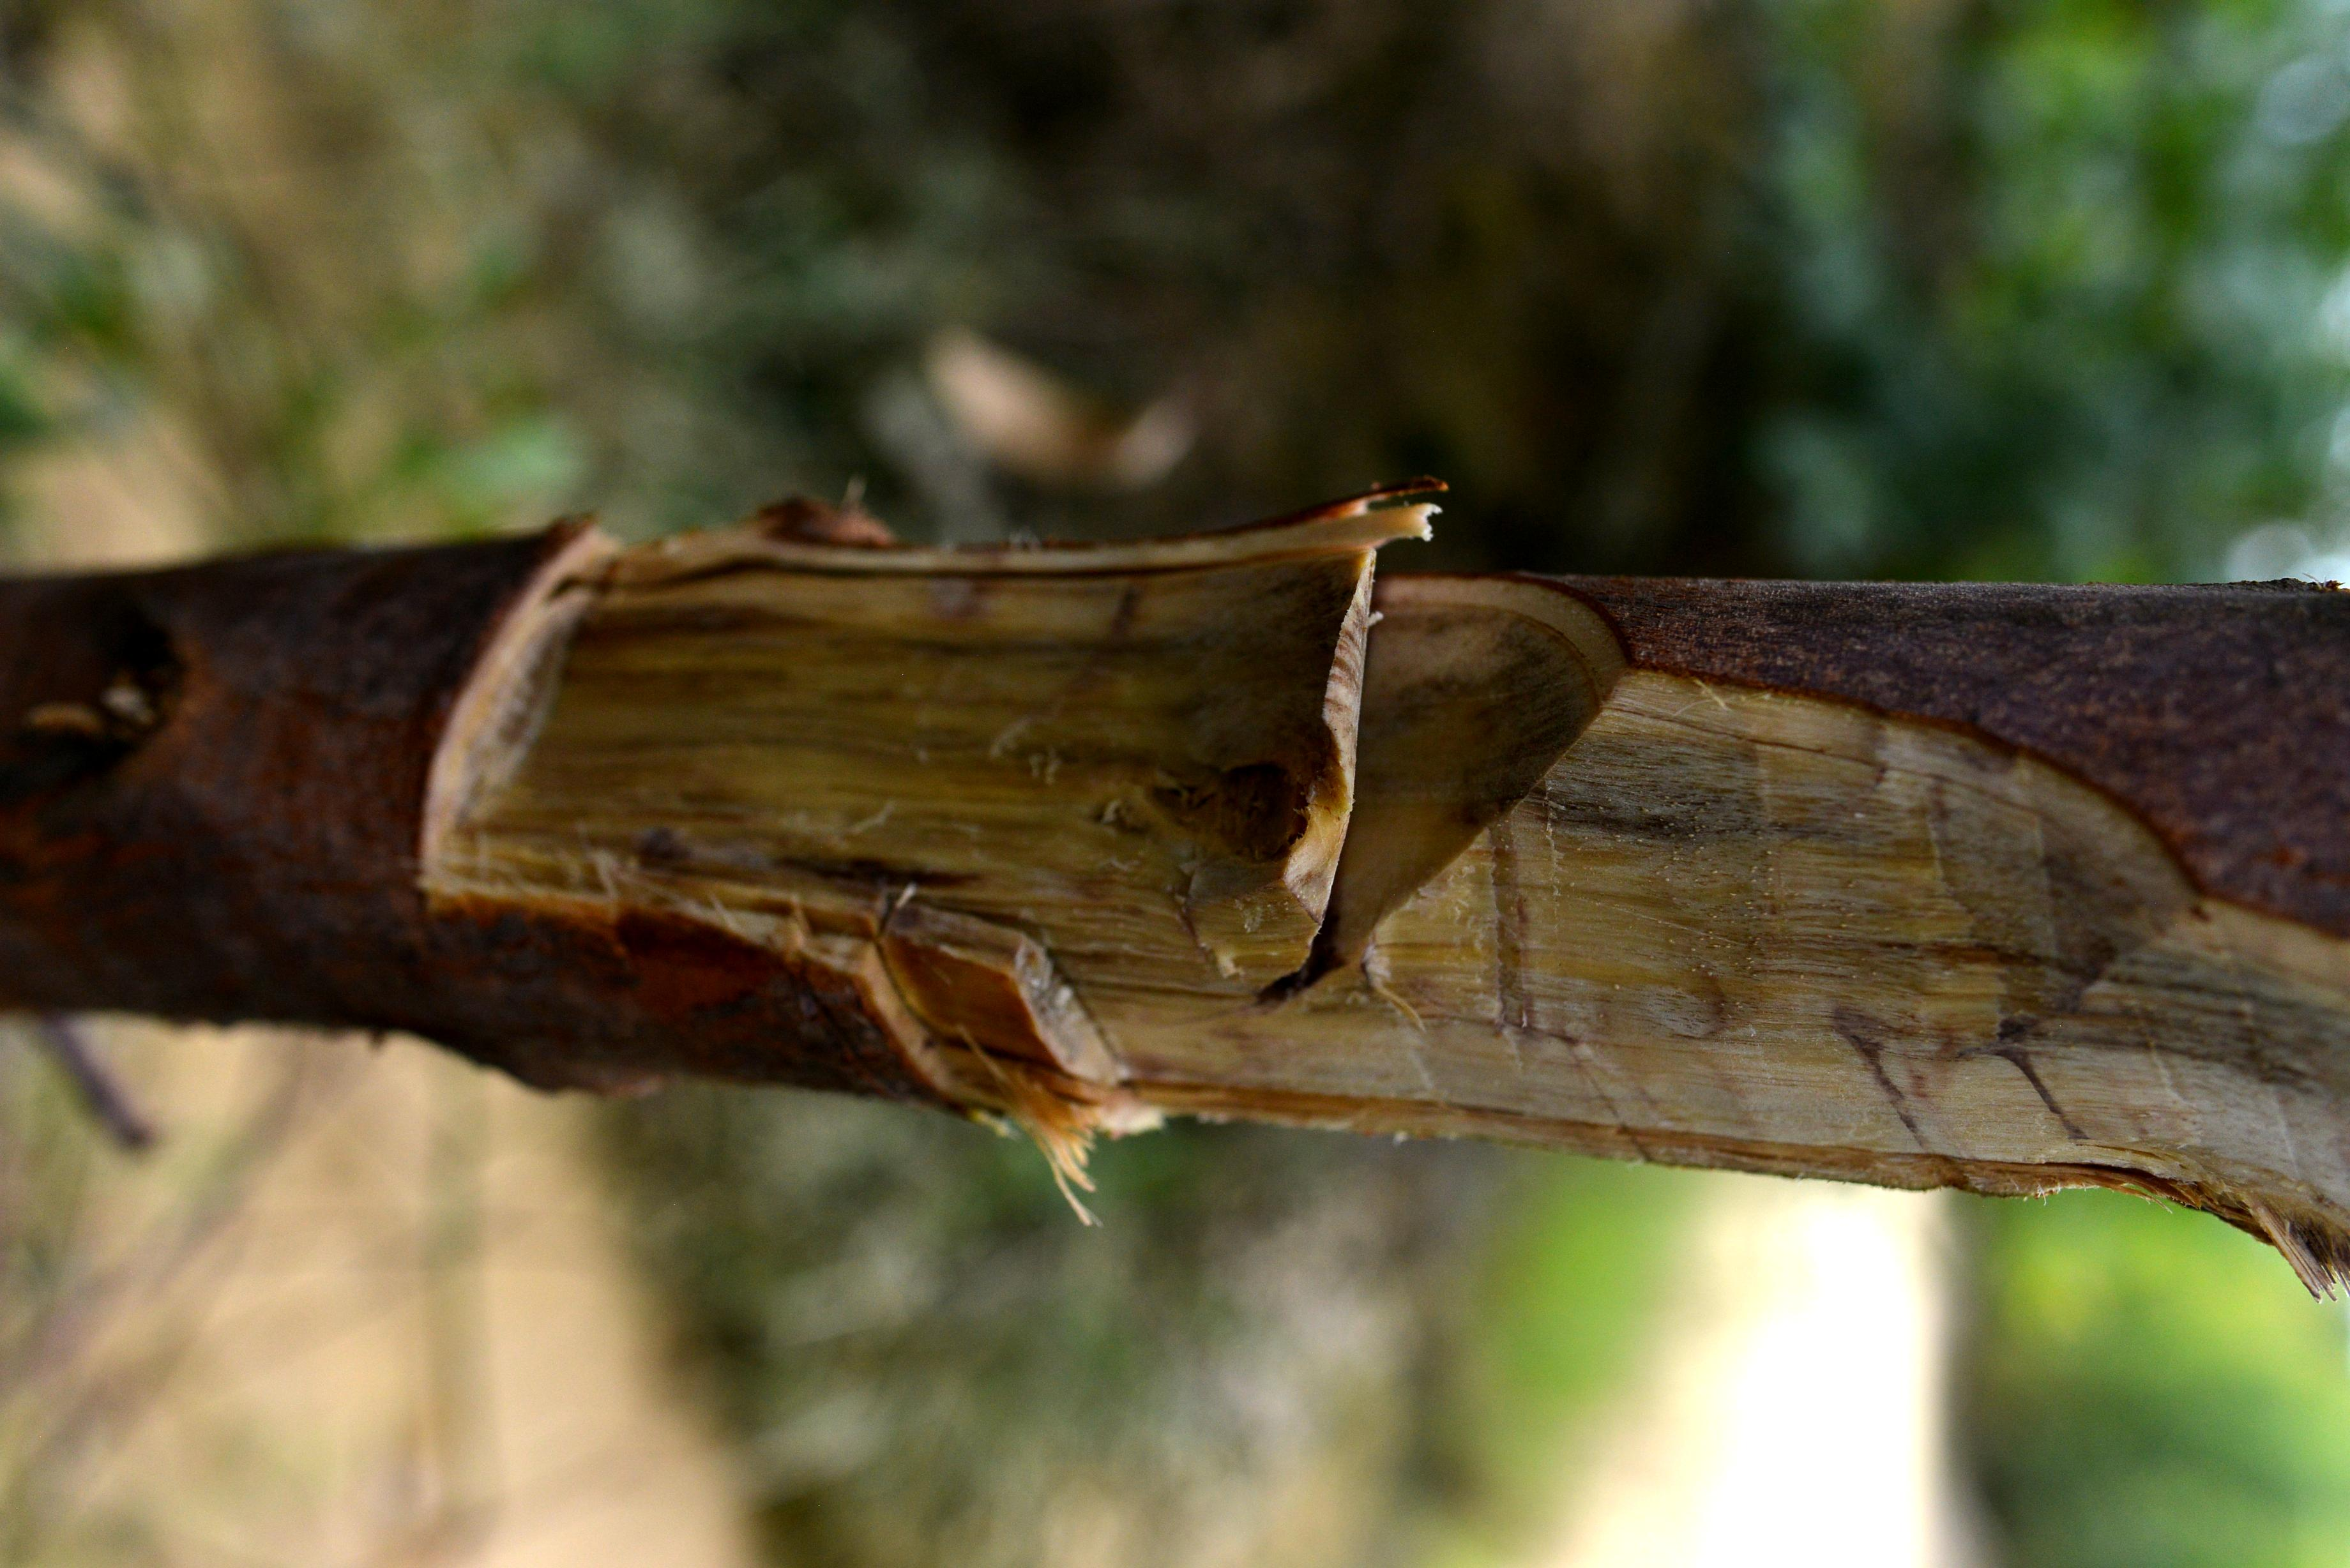Ralstonia: (1379, 723, 2350, 1160), (569, 572, 1358, 745), (1389, 619, 1711, 849), (707, 805, 1162, 903), (1834, 994, 2089, 1155)
